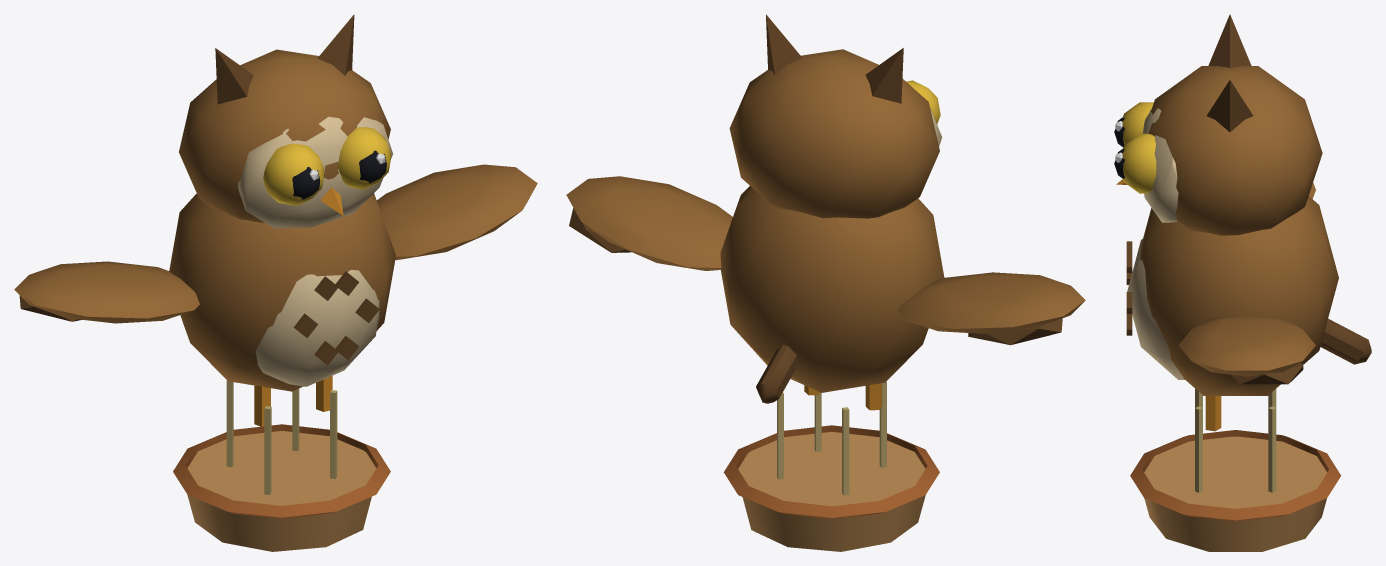
Rendered from comp_eule.glb.
The picture shows the model from 3 angles, left to right: view 1: azimuth 30°, elevation 25°; view 2: azimuth 150°, elevation 25°; view 3: azimuth 270°, elevation 25°; orthographic projection. The views are drawn at different scales.
Parts seen in each view (by area): view 1: body, head, wing_r, wing_l; view 2: body, head, wing_r, wing_l; view 3: body, head, wing_r.
Boxes of the visible parts, x1,y1,x2,y2 form: body: [169, 193, 395, 551]; head: [179, 14, 392, 227]; wing_r: [376, 164, 537, 260]; wing_l: [14, 261, 199, 323]; body: [720, 186, 944, 551]; head: [729, 14, 942, 218]; wing_r: [566, 176, 732, 270]; wing_l: [897, 272, 1085, 345]; body: [1126, 196, 1371, 551]; head: [1114, 14, 1322, 235]; wing_r: [1178, 315, 1315, 384].
Bounding box in the file's own units: 0.9772 × 0.9044 × 0.4486.
